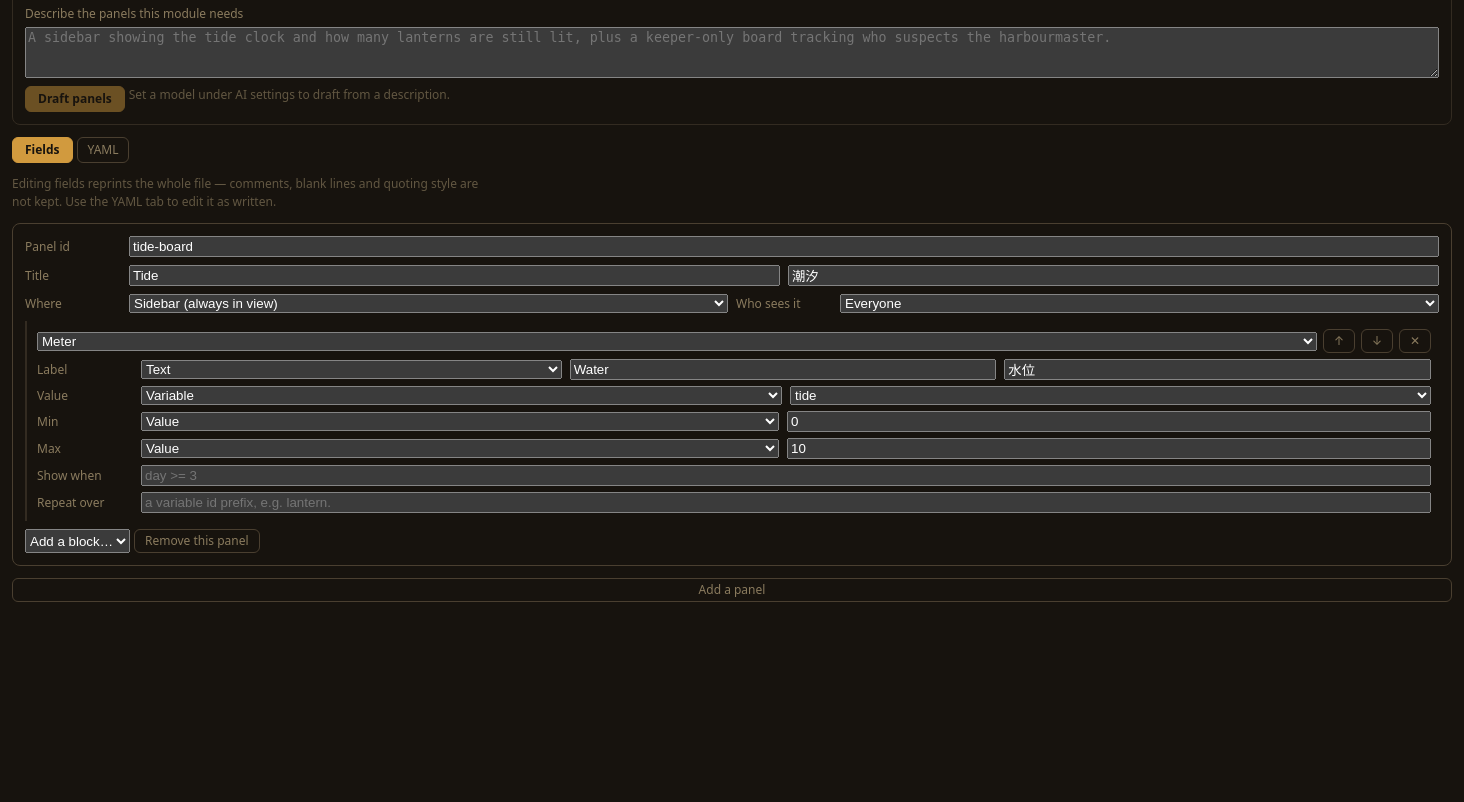
it: PanelsEditor › adds a panel, and says what is still missing rather than writing it silently
The image size is (1464, 802).
Click the button "Add a panel": click(732, 590) [12,578,1452,602]
(page scrolled)
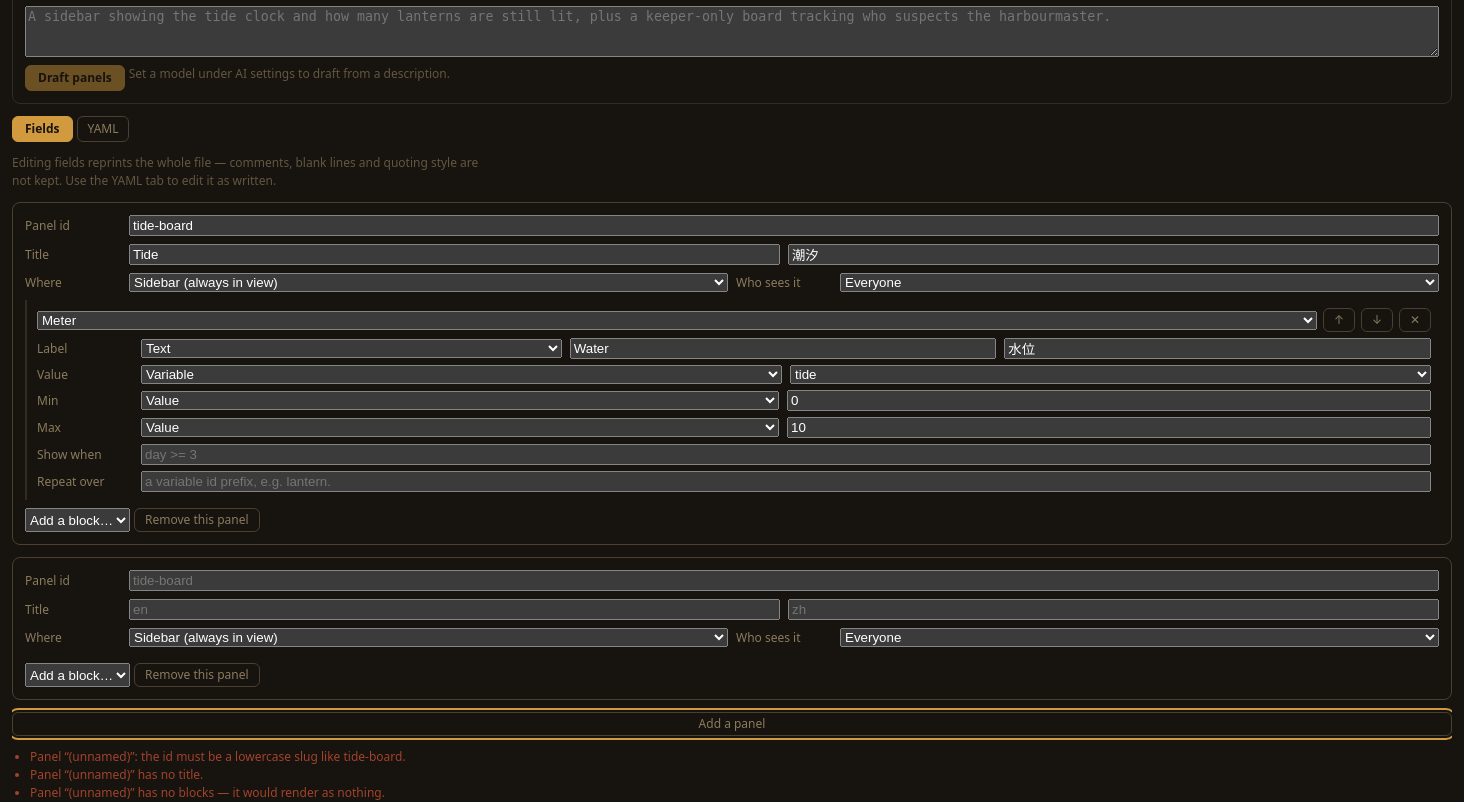
Expected: the list item "id must be a lowercase slug" is shown, [30,748,406,765]
Expected: the list item "has no blocks" is shown, [30,784,385,801]
